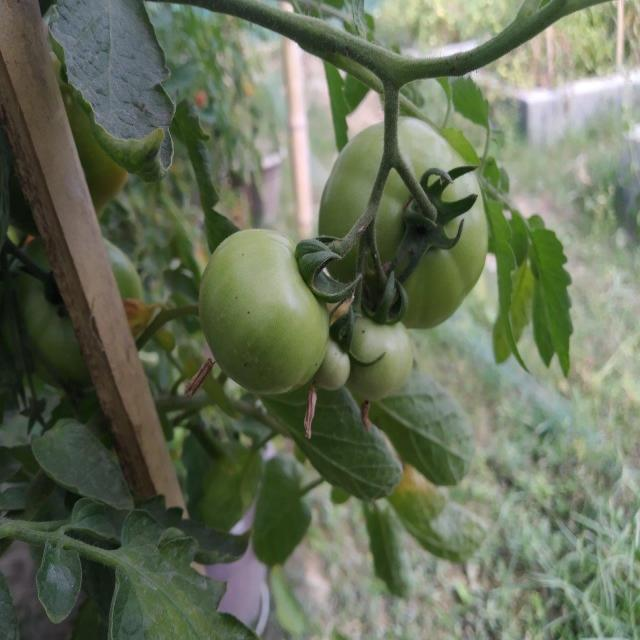Unripe: (321, 120, 485, 327), (197, 225, 329, 396)
